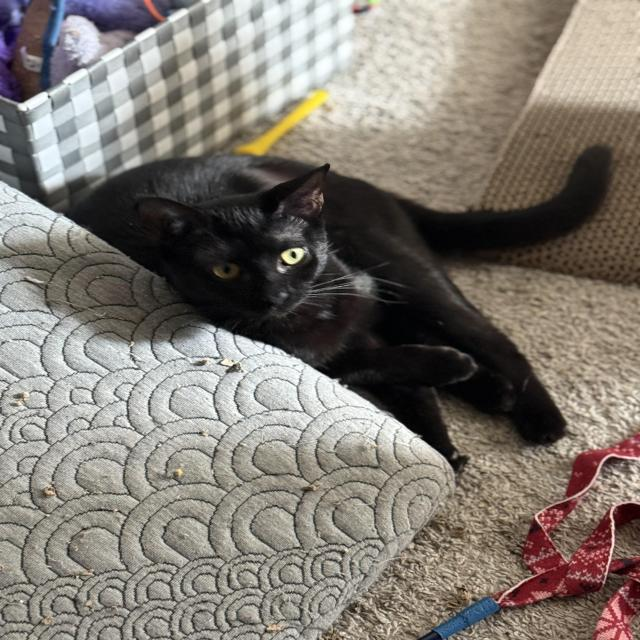bombay_cat: (130, 161, 352, 330)
